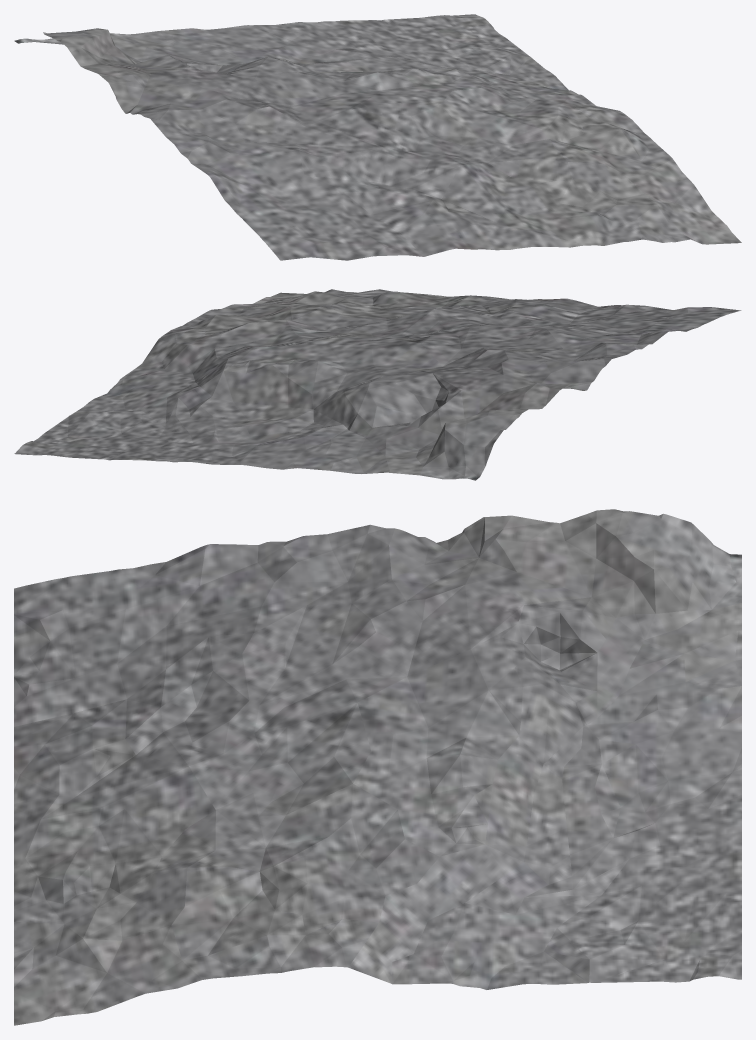
3 views of the same model, one above another, from view 1: azimuth 30°, elevation 25°; view 2: azimuth 150°, elevation 25°; view 3: azimuth 270°, elevation 25° (orthographic). The views are drawn at different scales.
Size of the model in its own units: 0.8374 by 0.2651 by 0.8373.
2 materials, 2 textured.
